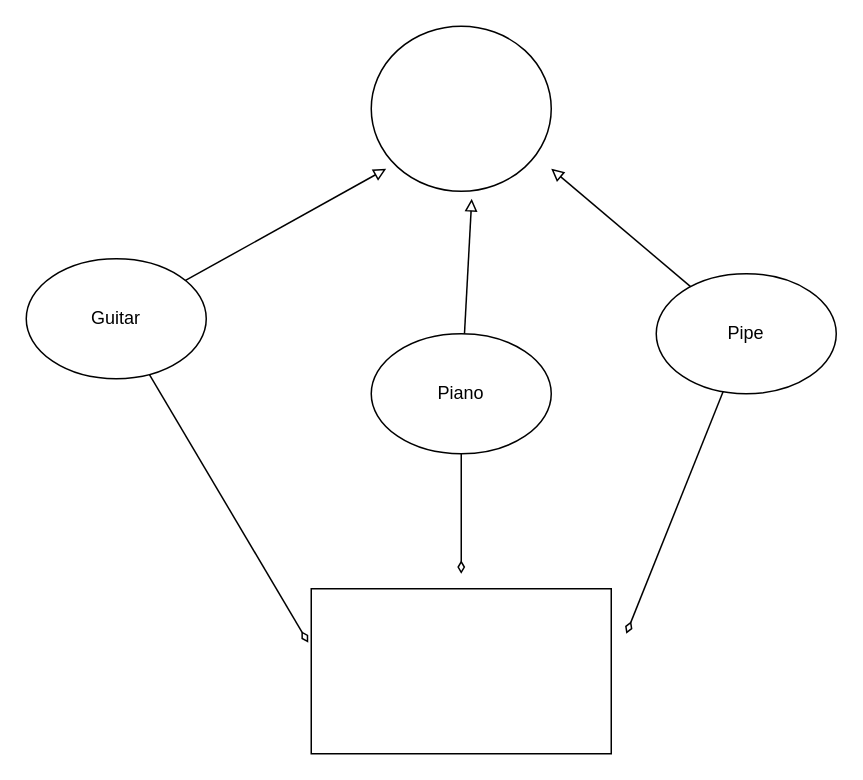
Image size: 863x780. Some labels were removed from this diagram. The shapes that lost their labels are listed below. From the top down, each one's centre as x and y in pixels, then its label:
At point (460, 108): "Musical instruments".
At point (460, 670): "Music store".
